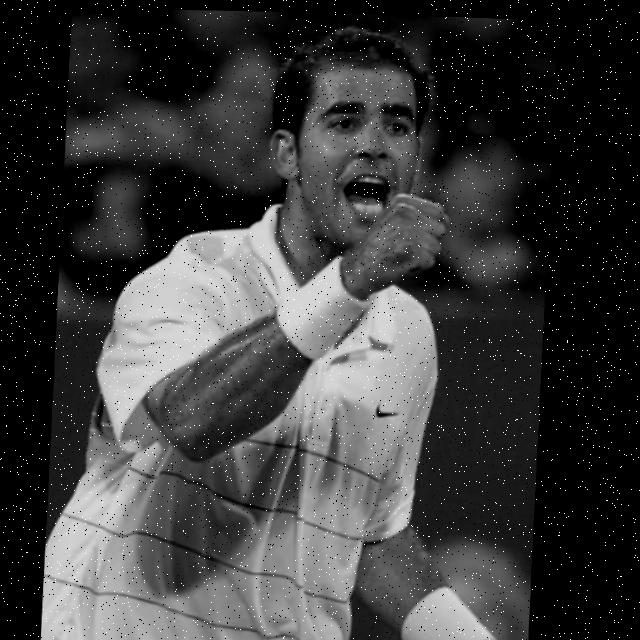face: (256, 53, 438, 267)
